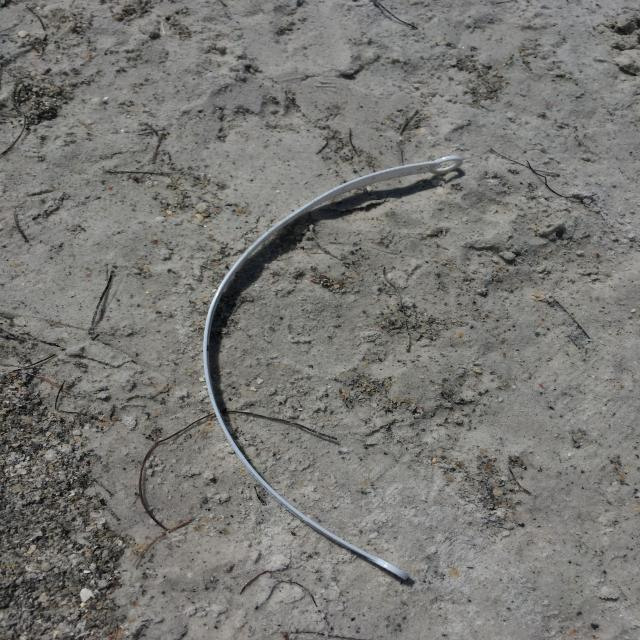litter: (171, 105, 510, 599)
